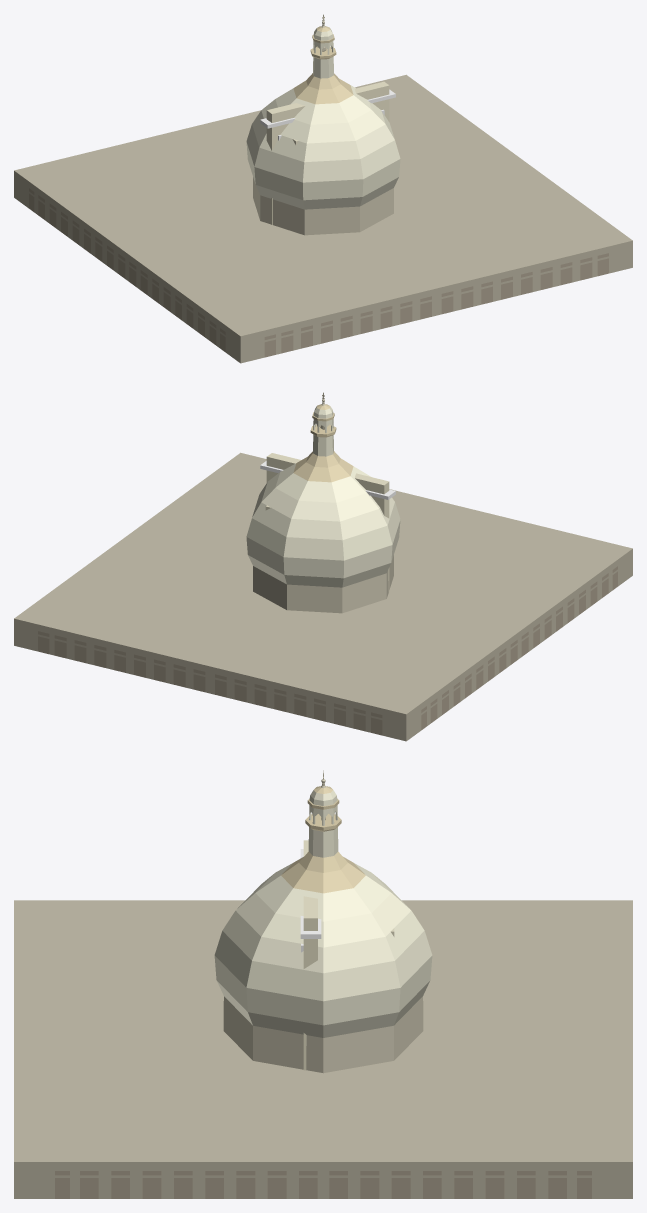
File: delh_arch_01.fbx
The picture shows the model from 3 angles, top to bottom: view 1: azimuth 30°, elevation 25°; view 2: azimuth 150°, elevation 25°; view 3: azimuth 270°, elevation 25°; orthographic projection. The views are drawn at different scales.
Visible parts, largest first — view 1: delh_arch_01_base_01, delh_arch_01_center_dome_01, delh_arch_01_door_wall_01, delh_arch_01_pillar_01; view 2: delh_arch_01_base_01, delh_arch_01_center_dome_01, delh_arch_01_door_wall_01, delh_arch_01_pillar_01; view 3: delh_arch_01_base_01, delh_arch_01_center_dome_01, delh_arch_01_pillar_01, delh_arch_01_door_wall_01.
Part boxes in pixels (box(x1,y1,x2,y2)): delh_arch_01_base_01: box(14, 74, 632, 363); delh_arch_01_center_dome_01: box(246, 47, 400, 235); delh_arch_01_door_wall_01: box(260, 81, 395, 224); delh_arch_01_pillar_01: box(310, 14, 336, 78); delh_arch_01_base_01: box(14, 452, 632, 741); delh_arch_01_center_dome_01: box(246, 425, 400, 613); delh_arch_01_door_wall_01: box(260, 453, 395, 592); delh_arch_01_pillar_01: box(310, 392, 336, 456); delh_arch_01_base_01: box(14, 900, 632, 1198); delh_arch_01_center_dome_01: box(214, 817, 432, 1073); delh_arch_01_pillar_01: box(305, 770, 341, 857); delh_arch_01_door_wall_01: box(300, 840, 321, 1070).
Bounding box in the file's own units: 5293 × 2811 × 5293.
